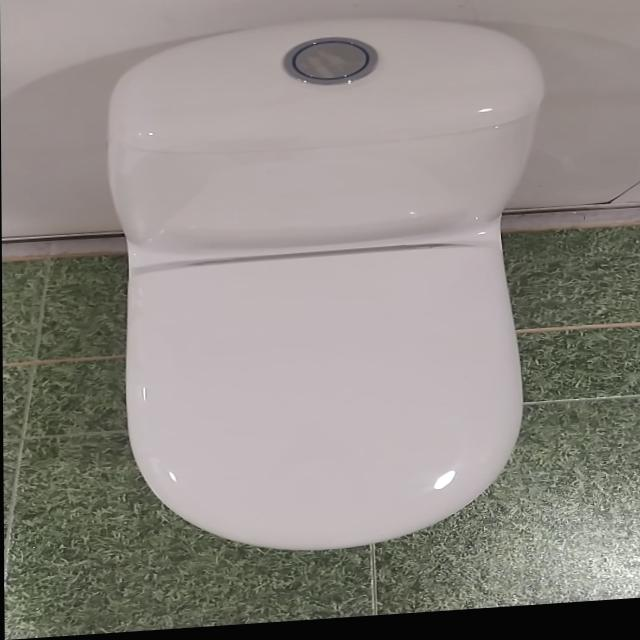toilet: (104, 11, 548, 567)
